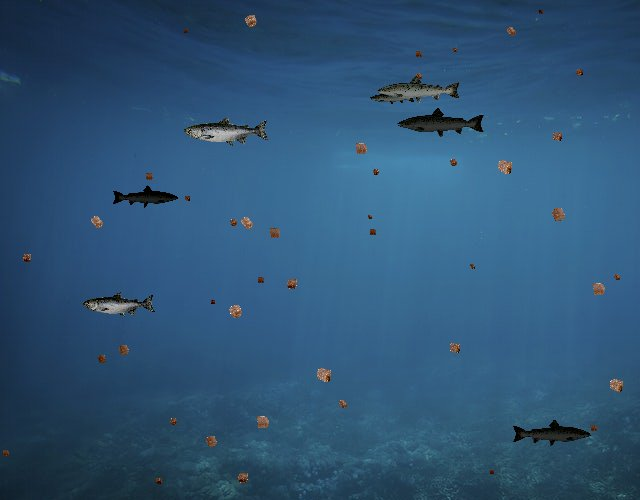Fish: (397, 106, 487, 139), (376, 74, 462, 105), (184, 116, 270, 147), (511, 418, 592, 447), (83, 292, 156, 318), (112, 184, 180, 209), (370, 89, 417, 106)
Pellet: (249, 409, 276, 436), (349, 136, 374, 161), (232, 467, 254, 489), (501, 21, 521, 41), (366, 225, 380, 239), (450, 45, 460, 54)
